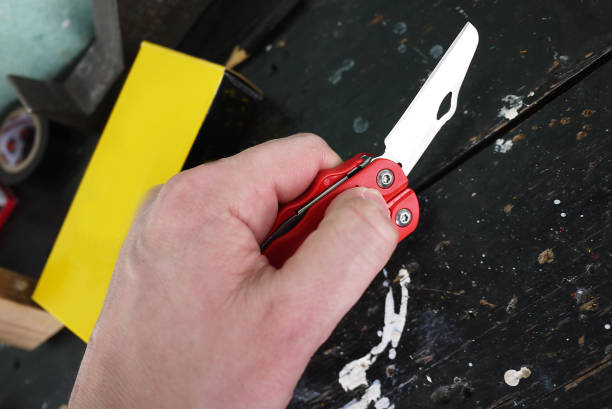knife: (264, 22, 482, 270)
